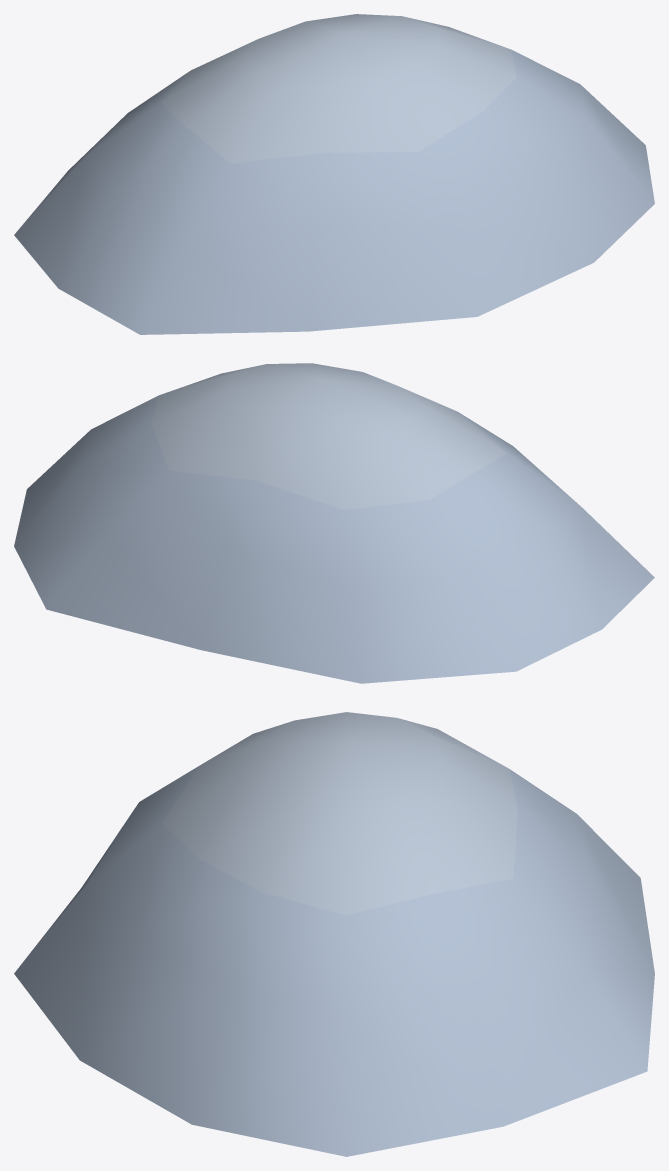
The model's file is snow_pile_c.glb.
3 renders of one model, top to bottom at view 1: azimuth 30°, elevation 25°; view 2: azimuth 150°, elevation 25°; view 3: azimuth 270°, elevation 25°, orthographic. The views are drawn at different scales.
Parts seen in each view (by area): view 1: Snow; view 2: Snow; view 3: Snow.
Part boxes in pixels (x1,y1,x2,y2): Snow: (14,14,654,334); Snow: (14,363,654,683); Snow: (14,712,654,1156).
Bounding box in the file's own units: 1.13 × 0.3398 × 0.8555.
